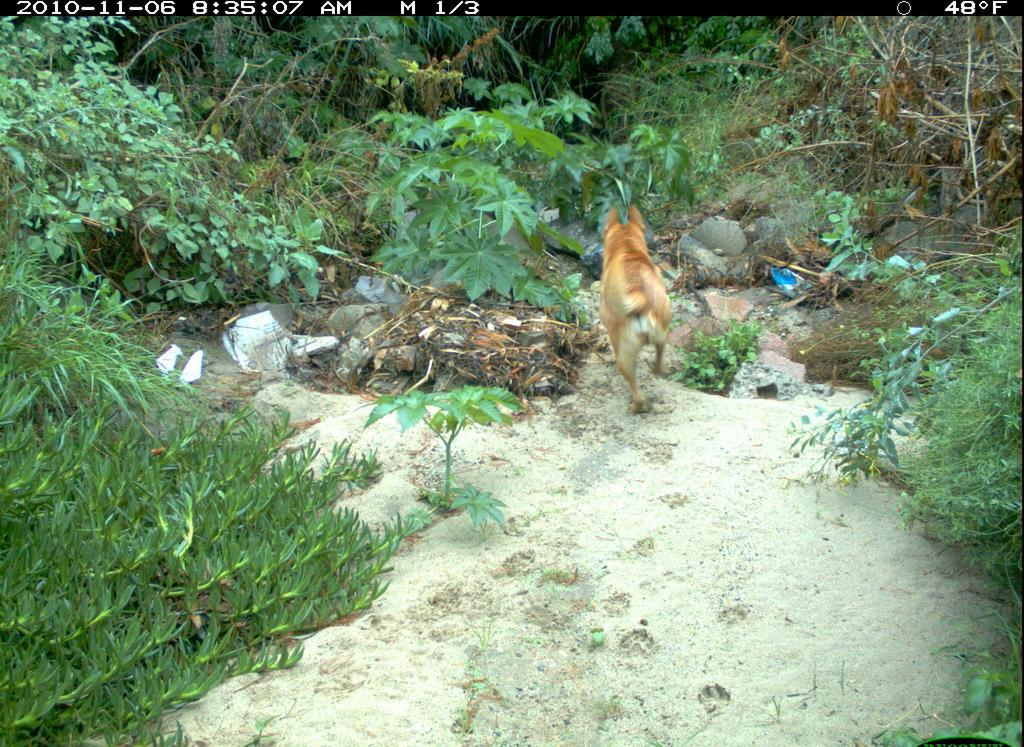dog: (592, 199, 680, 418)
